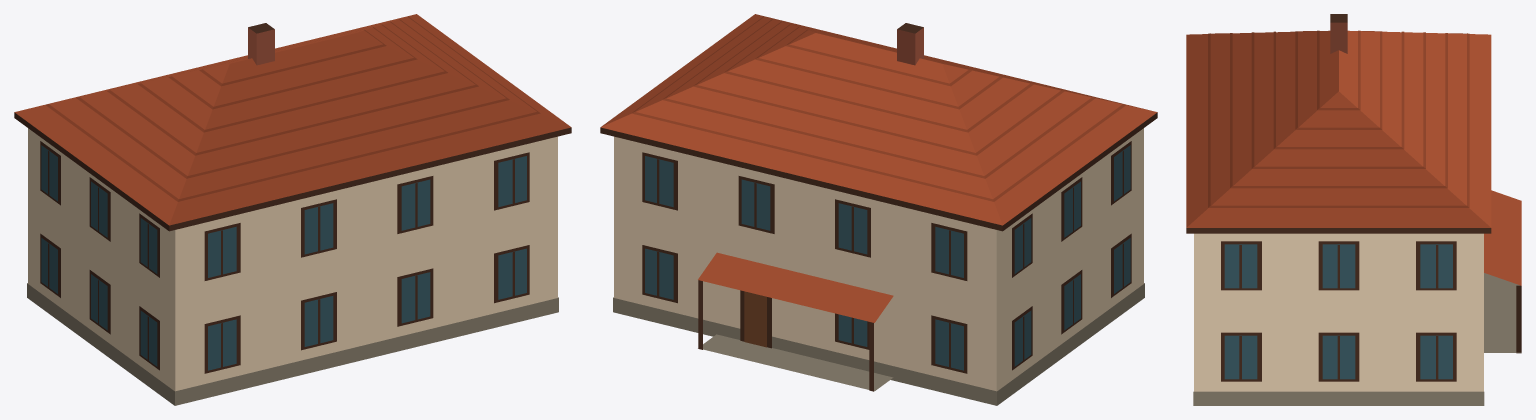
File: house-wooden-veranda.glb
The picture shows the model from 3 angles, left to right: view 1: azimuth 30°, elevation 25°; view 2: azimuth 150°, elevation 25°; view 3: azimuth 270°, elevation 25°; orthographic projection.
Parts seen in each view (by area): view 1: House Wooden veranda; view 2: House Wooden veranda; view 3: House Wooden veranda.
Boxes of the visible parts, x1,y1,x2,y2 form: House Wooden veranda: (14, 14, 571, 405); House Wooden veranda: (600, 14, 1157, 405); House Wooden veranda: (1186, 14, 1521, 405).
Size of the model in its own units: 15.92 by 10.75 by 11.66.
